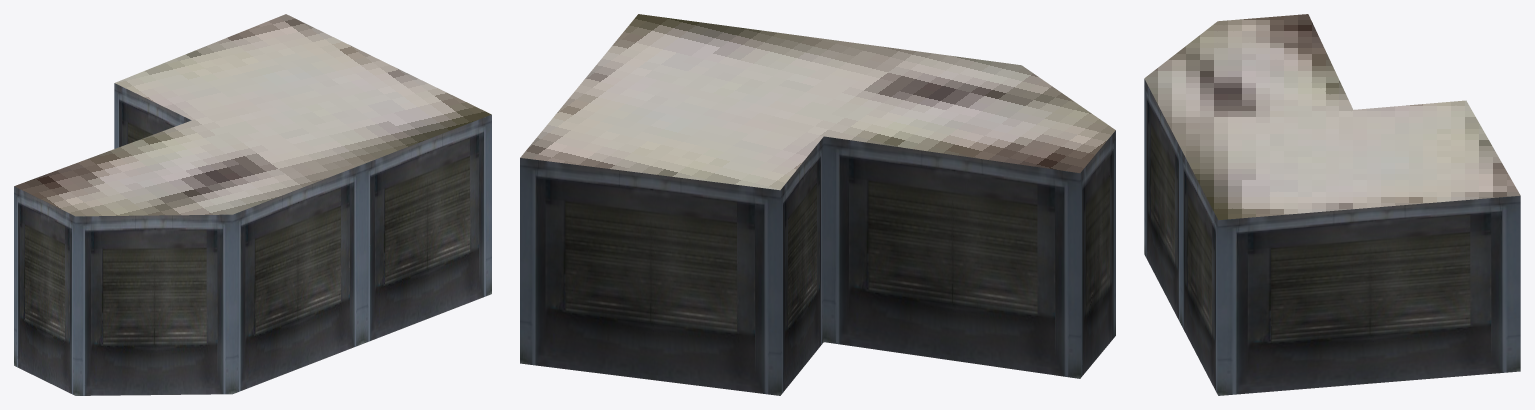
The model's file is T_1SWF44NV5L.dae.
3 renders of one model, left to right at view 1: azimuth 30°, elevation 25°; view 2: azimuth 150°, elevation 25°; view 3: azimuth 270°, elevation 25°, orthographic. The views are drawn at different scales.
Visible parts, largest first — view 1: SketchUp (×5); view 2: SketchUp (×5); view 3: SketchUp (×3).
Part boxes in pixels (x1=…): SketchUp (×5): x1=14, y1=14, x2=491, y2=395; SketchUp (×5): x1=520, y1=14, x2=1115, y2=395; SketchUp (×3): x1=1144, y1=14, x2=1520, y2=395.
Size of the model in its own units: 9.06 by 6.99 by 3.6.
2 materials, 2 textured.
